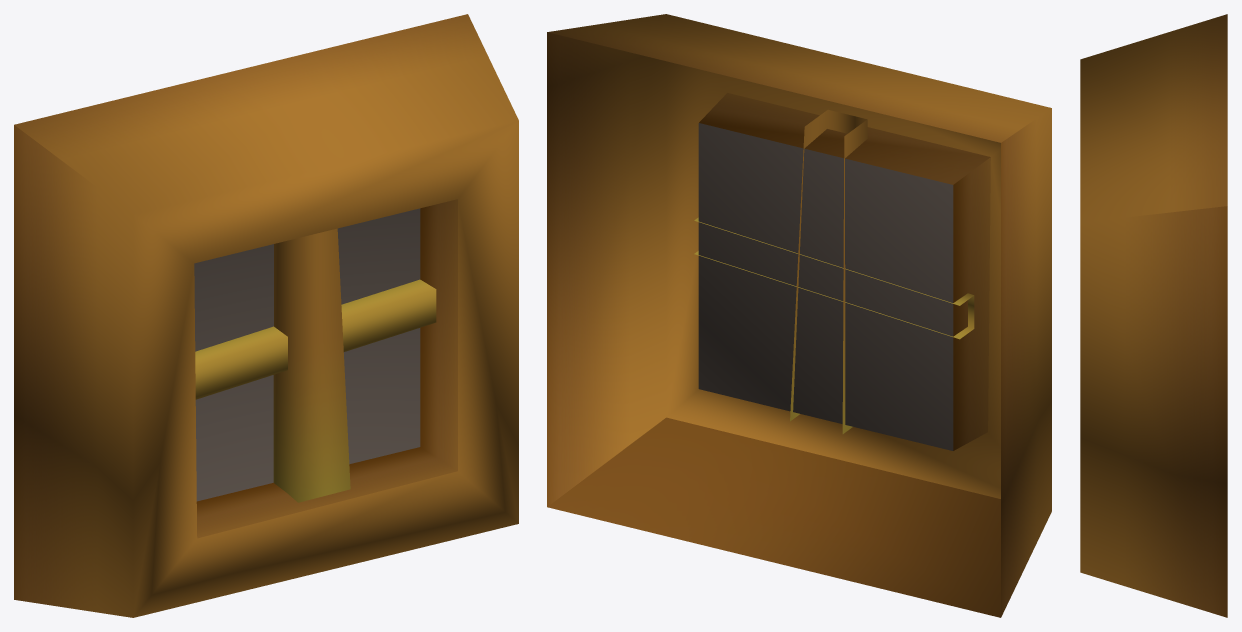
File: window.fbx
3 views of the same model, side by side, from view 1: azimuth 30°, elevation 25°; view 2: azimuth 150°, elevation 25°; view 3: azimuth 270°, elevation 25° (orthographic). The views are drawn at different scales.
Parts seen in each view (by area): view 1: window; view 2: window; view 3: window.
Boxes of the visible parts, x1=… form: window: x1=14, y1=14, x2=518, y2=617; window: x1=547, y1=14, x2=1051, y2=617; window: x1=1080, y1=14, x2=1227, y2=617.
Bounding box in the file's own units: 109 × 109 × 35.22.
